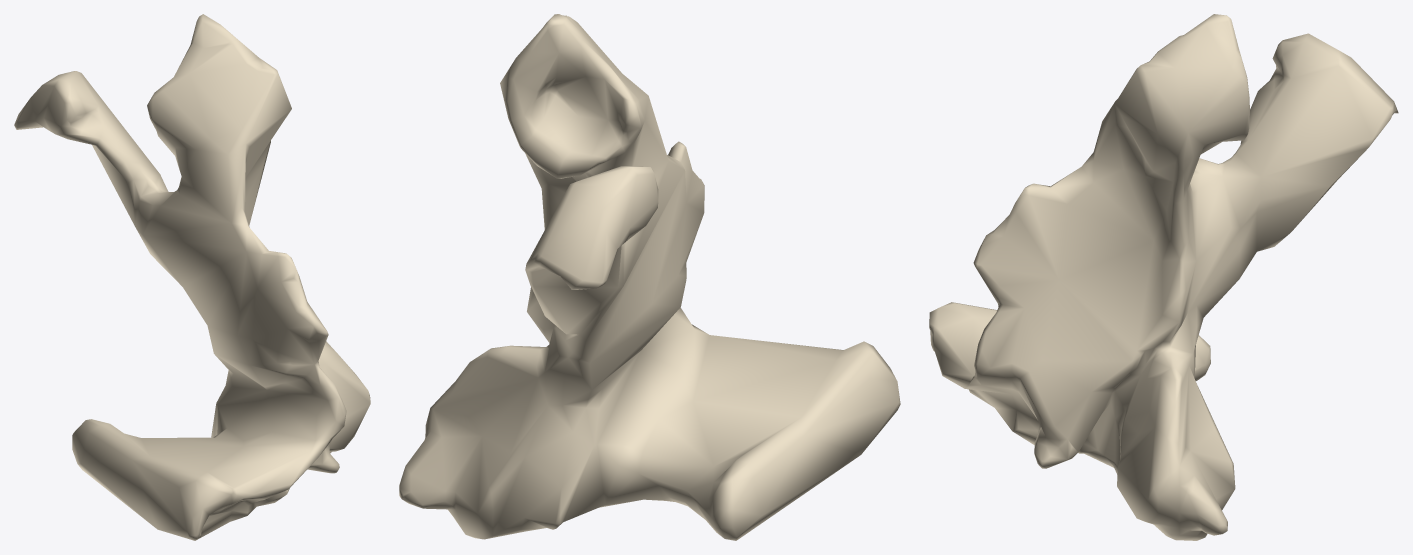
The model's file is palatine-bone-l.glb.
The picture shows the model from 3 angles, left to right: view 1: azimuth 30°, elevation 25°; view 2: azimuth 150°, elevation 25°; view 3: azimuth 270°, elevation 25°; orthographic projection. The views are drawn at different scales.
Visible parts, largest first — view 1: Palatine bone.l; view 2: Palatine bone.l; view 3: Palatine bone.l.
Part boxes in pixels (box(x1,y1,x2,y2)): Palatine bone.l: box(14, 14, 370, 540); Palatine bone.l: box(399, 14, 900, 540); Palatine bone.l: box(929, 14, 1398, 540).
Size of the model in its own units: 0.0263 by 0.0402 by 0.0352.
